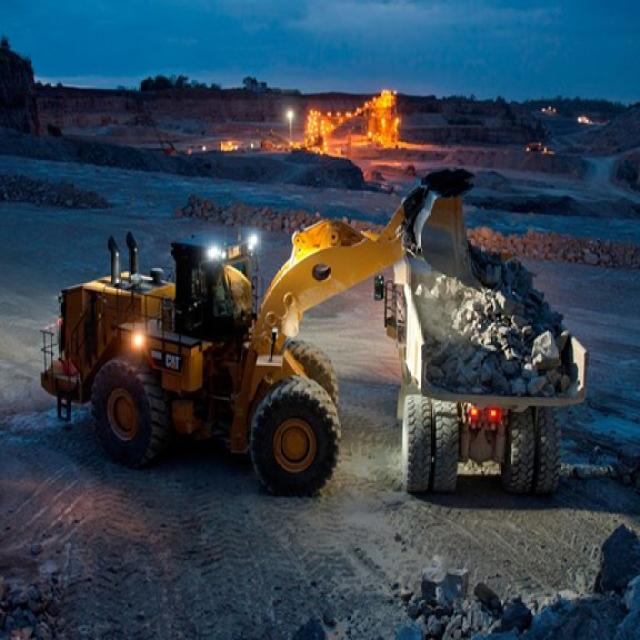buldozerpayloadergrader: (54, 156, 463, 499)
dump_truck: (384, 255, 598, 504)
